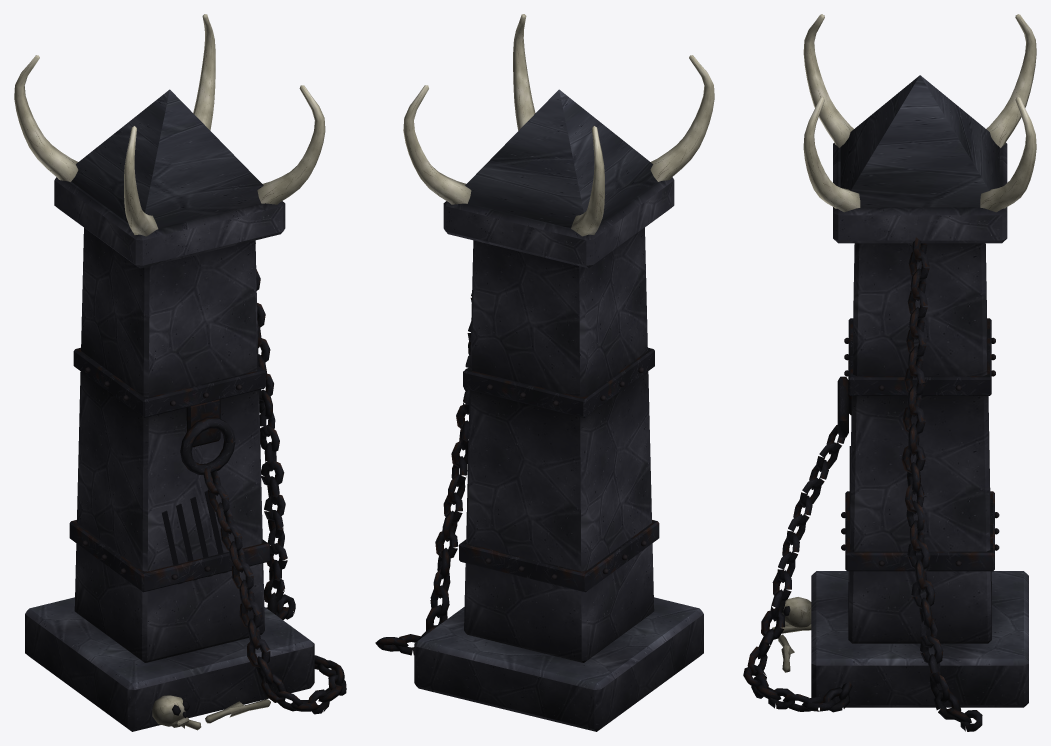
File: helheim_gate_pillar.glb
3 renders of one model, left to right at view 1: azimuth 30°, elevation 25°; view 2: azimuth 150°, elevation 25°; view 3: azimuth 270°, elevation 25°, orthographic.
Parts seen in each view (by area): view 1: helheim_gate_pillar; view 2: helheim_gate_pillar; view 3: helheim_gate_pillar.
Part boxes in pixels (x1,y1,x2,y2): helheim_gate_pillar: (14,14,346,731); helheim_gate_pillar: (375,14,714,731); helheim_gate_pillar: (743,14,1036,731).
Size of the model in its own units: 2.3 by 5.24 by 2.29.
4 materials, 3 textured.
